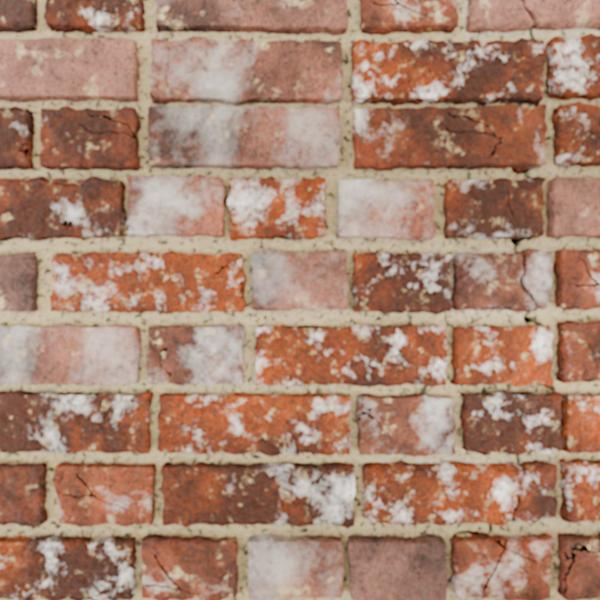brick: (351, 34, 599, 169), (0, 175, 224, 240), (151, 37, 342, 104), (148, 105, 341, 169), (162, 462, 354, 526), (50, 251, 245, 313), (158, 393, 350, 455), (255, 324, 447, 385), (0, 391, 152, 454), (0, 37, 138, 101), (460, 391, 599, 454), (0, 535, 135, 599), (0, 325, 140, 384), (449, 533, 554, 599), (157, 0, 347, 34), (53, 463, 155, 526), (347, 535, 446, 599), (228, 176, 325, 240), (443, 177, 543, 239), (40, 107, 139, 169), (142, 535, 237, 599), (356, 393, 454, 455), (352, 252, 451, 313), (248, 535, 343, 598), (337, 179, 435, 240), (451, 326, 552, 385), (147, 325, 244, 384), (251, 251, 347, 309), (44, 0, 144, 32), (361, 0, 457, 33), (547, 178, 599, 237), (552, 102, 599, 166), (0, 463, 47, 525), (554, 250, 599, 309), (557, 321, 599, 382), (558, 534, 599, 596), (560, 459, 599, 521), (0, 253, 38, 310), (0, 108, 33, 168), (567, 551, 599, 599), (0, 0, 36, 32)
broken_brick: (361, 460, 521, 526), (451, 248, 553, 312), (516, 459, 558, 525), (526, 0, 599, 31), (465, 0, 531, 33)
crack: (510, 237, 540, 308), (563, 542, 599, 598), (510, 453, 526, 521), (356, 406, 390, 438), (372, 0, 428, 16), (148, 342, 172, 377), (520, 0, 539, 41), (574, 256, 599, 287), (211, 254, 242, 275), (452, 522, 493, 536), (39, 177, 84, 187), (523, 310, 543, 327), (222, 279, 243, 295), (511, 167, 534, 179), (544, 384, 556, 393), (9, 107, 26, 111), (149, 92, 156, 100), (548, 286, 551, 302), (347, 493, 352, 502), (450, 298, 454, 308), (340, 420, 348, 424), (147, 143, 153, 148), (126, 224, 130, 230), (534, 103, 539, 107), (551, 265, 554, 271)
